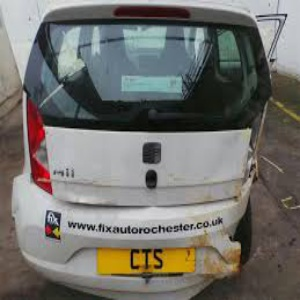bumper: (200, 236, 245, 276)
